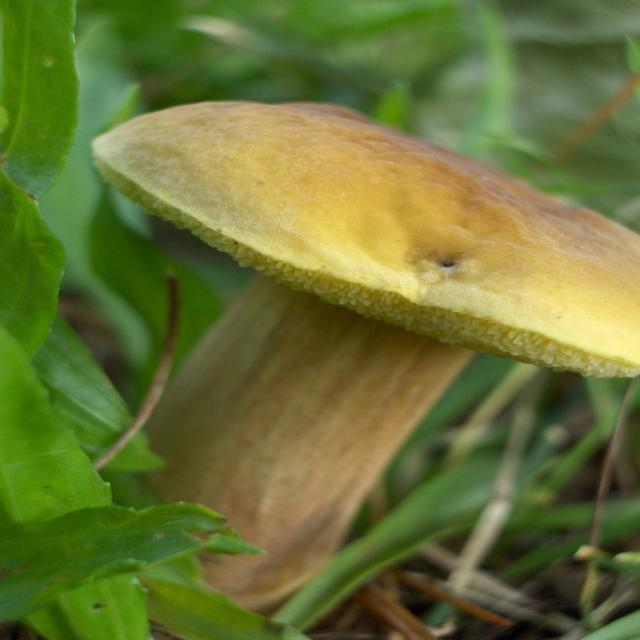Mushroom: (84, 96, 638, 631)
